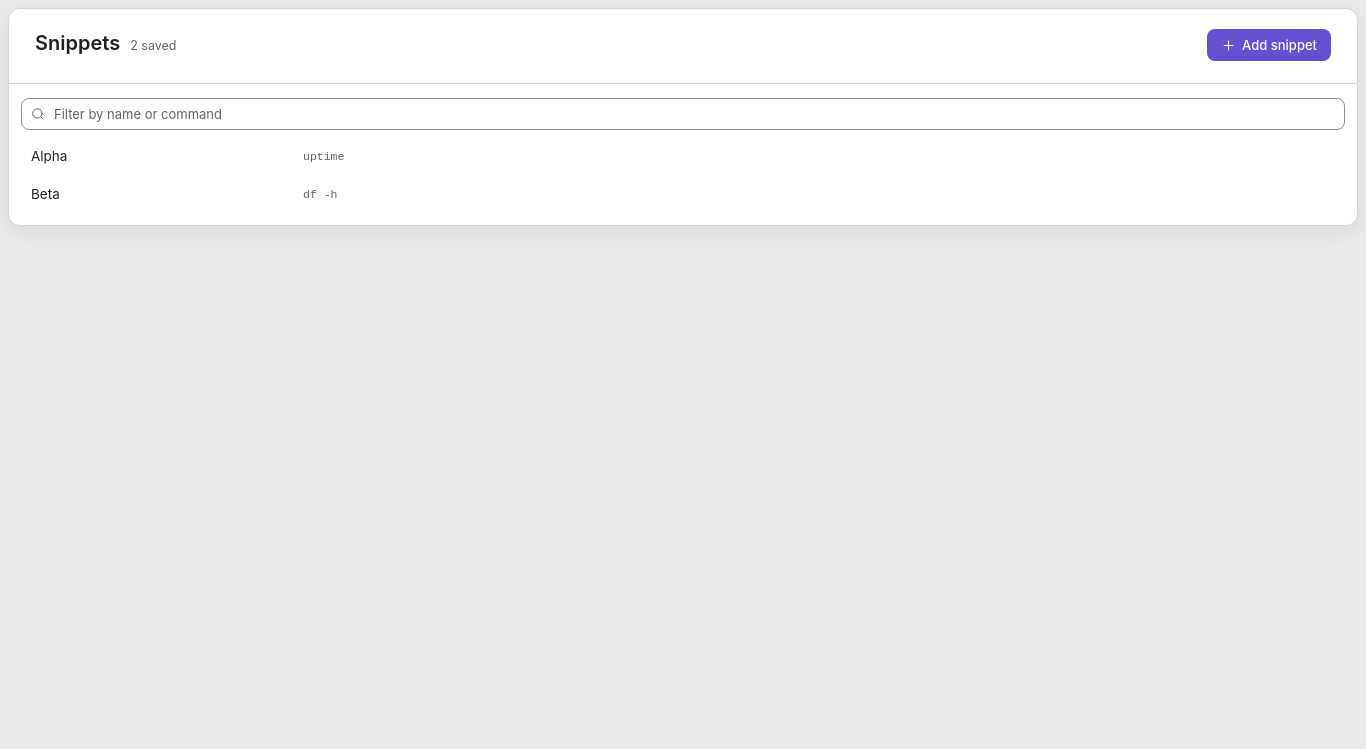
Test case: says in words that the run had finished when a cancel is refused, instead of dropping the refusal
Click the button "Alpha uptime".
click(49, 156)  # box [21,138,1345,174]
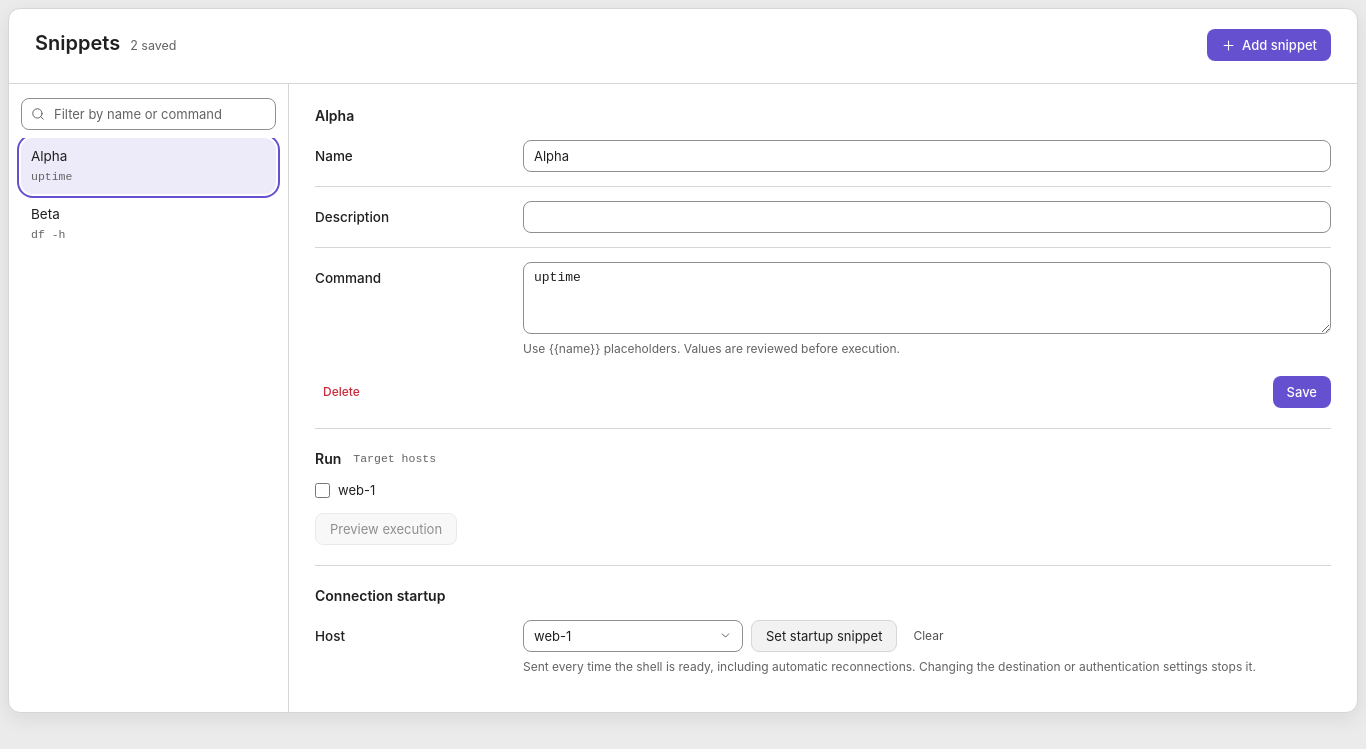
Click the checkbox labelled "web-1".
click(322, 491)  # box [315,483,330,498]
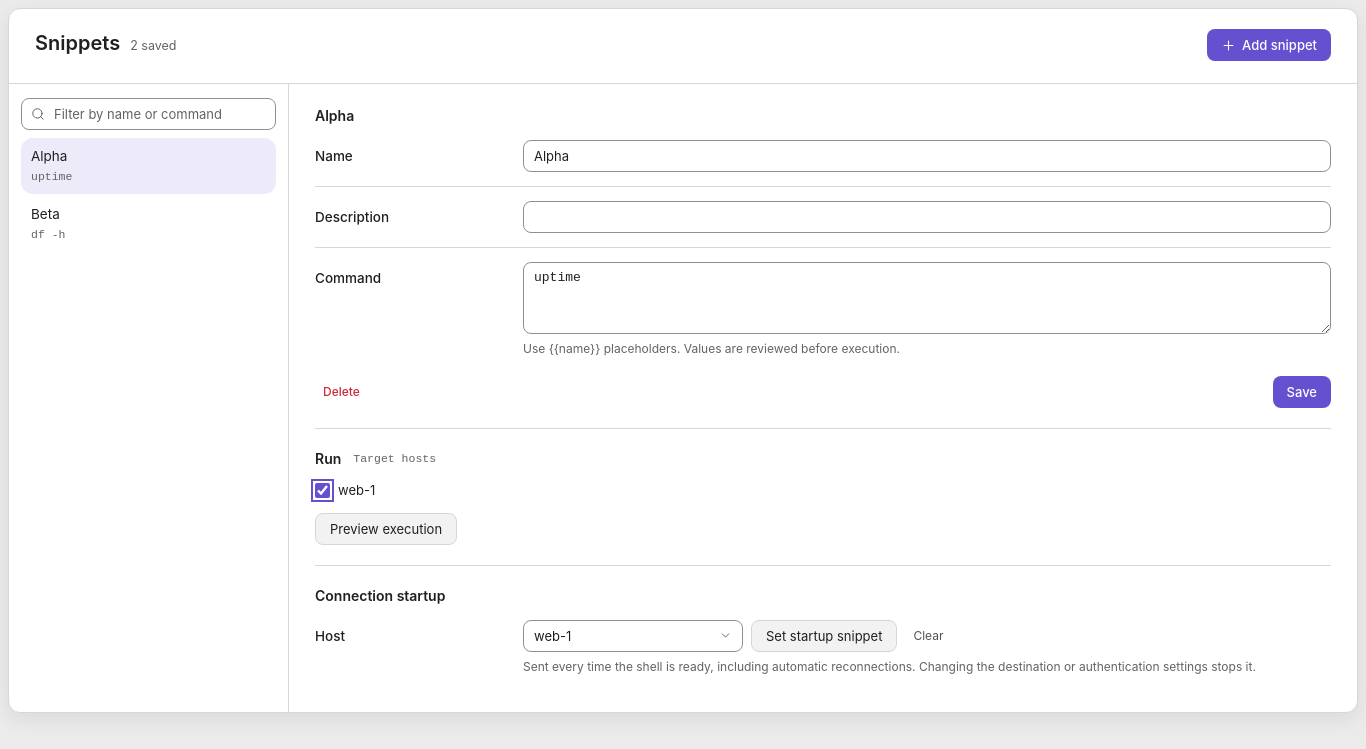
Click the button "Preview execution".
click(386, 528)  # box [315,512,457,544]
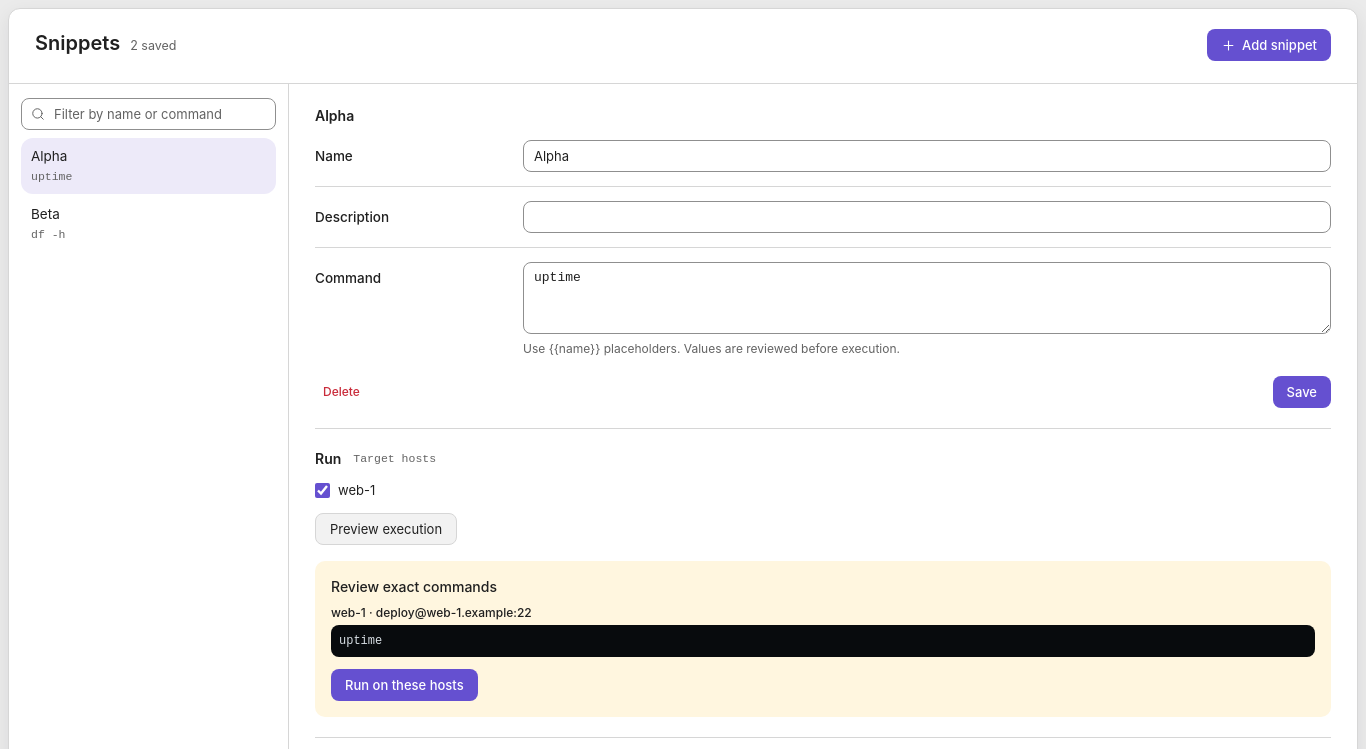
Click the button "Run on these hosts".
click(404, 684)  # box [331,668,478,700]
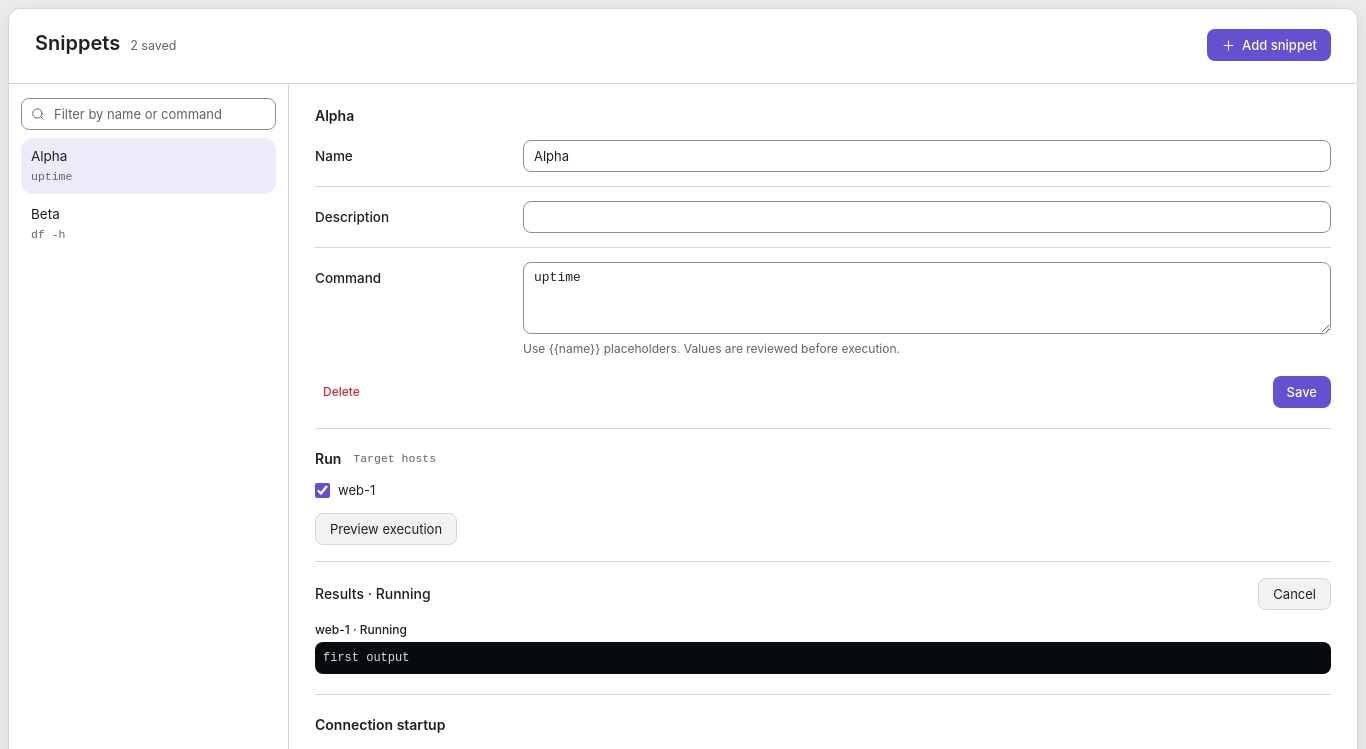
Check: the text "first output" is shown, box [315,642,1331,674]
Click the button "Cancel".
click(1295, 594)  # box [1258,578,1331,610]
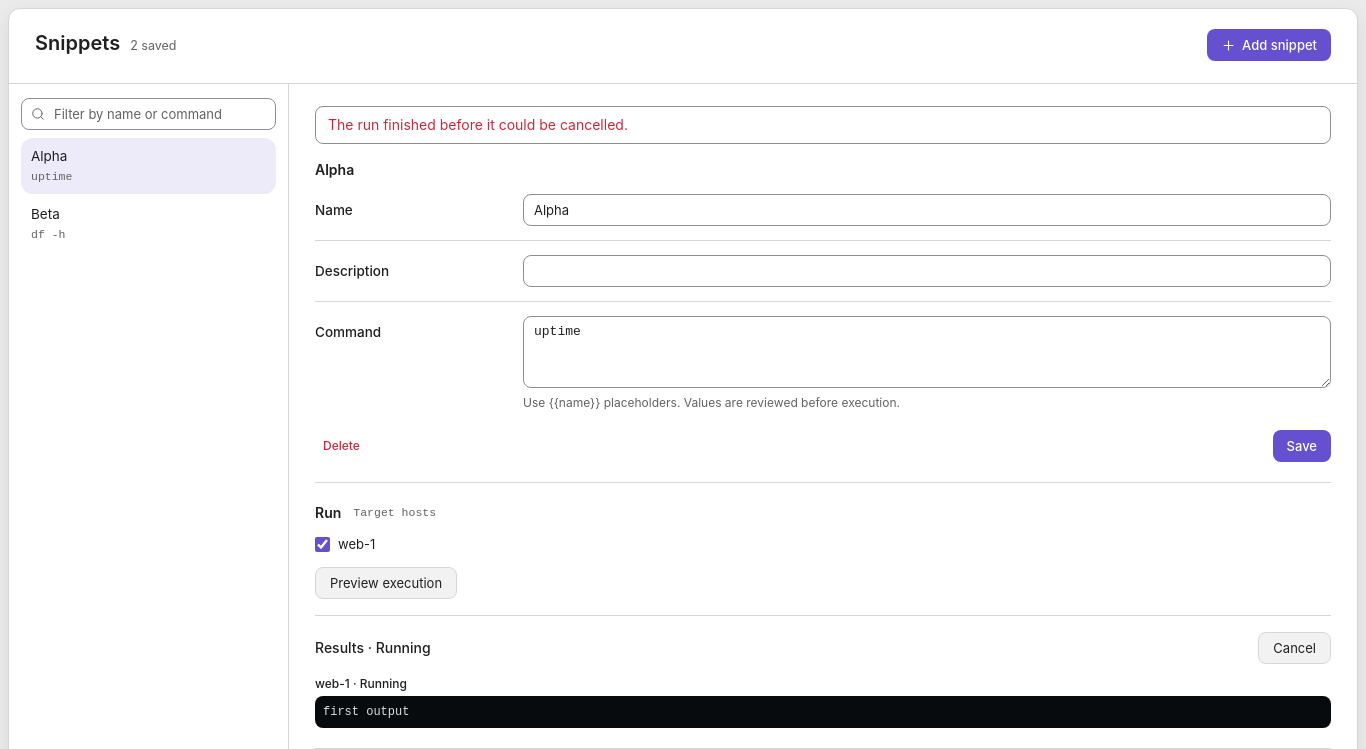
Check: the message reads "The run finished before it could be cancelled.", box [328,116,628,133]
